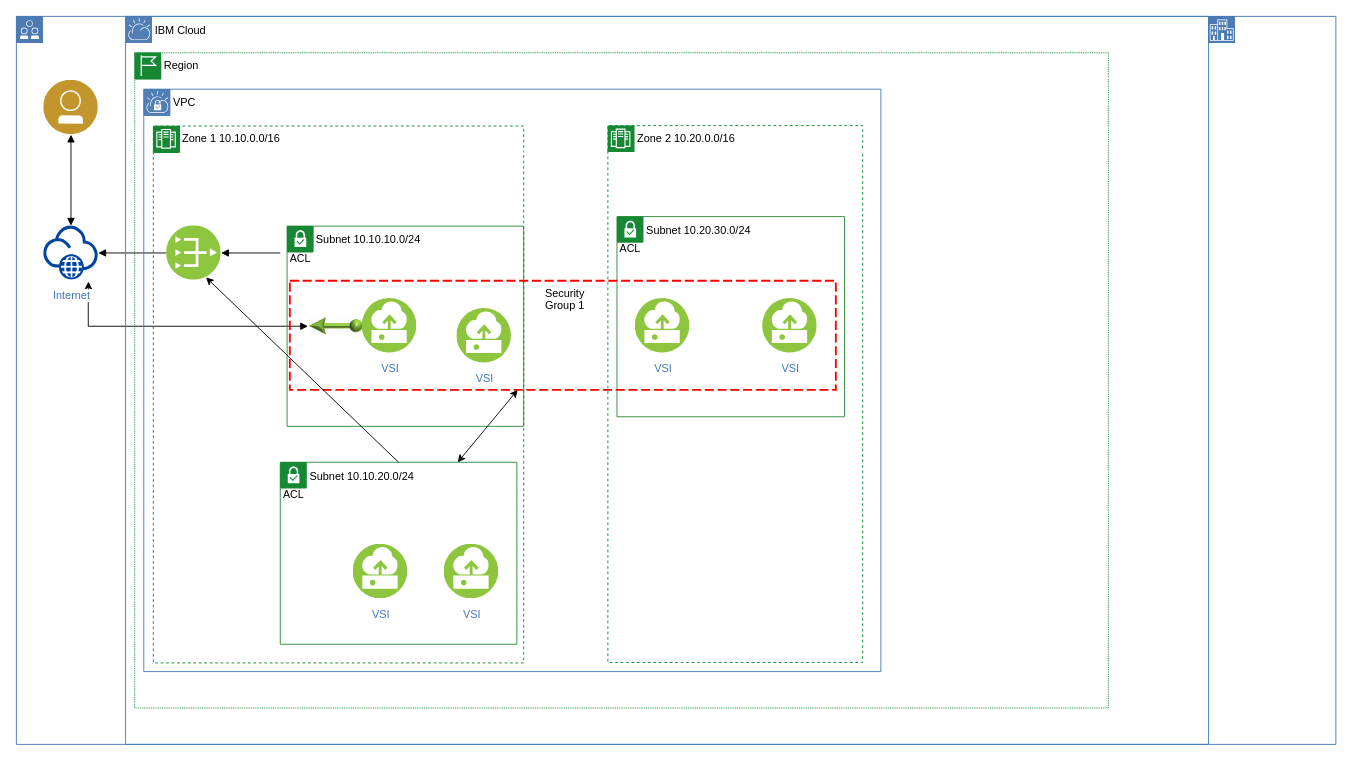
Image size: 1351x760. Some labels were removed from this diagram. Here are the shapes that lost their labels. From the top down, the centre of each, then its label:
At (29,29): "Public Network".
At (1221,29): "Enterprise Network".
At (70,107): "User".
At (193,252): "Public Gateway".
At (335,325): "Floating IP".
